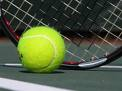tennis ball: (15, 23, 68, 77)
